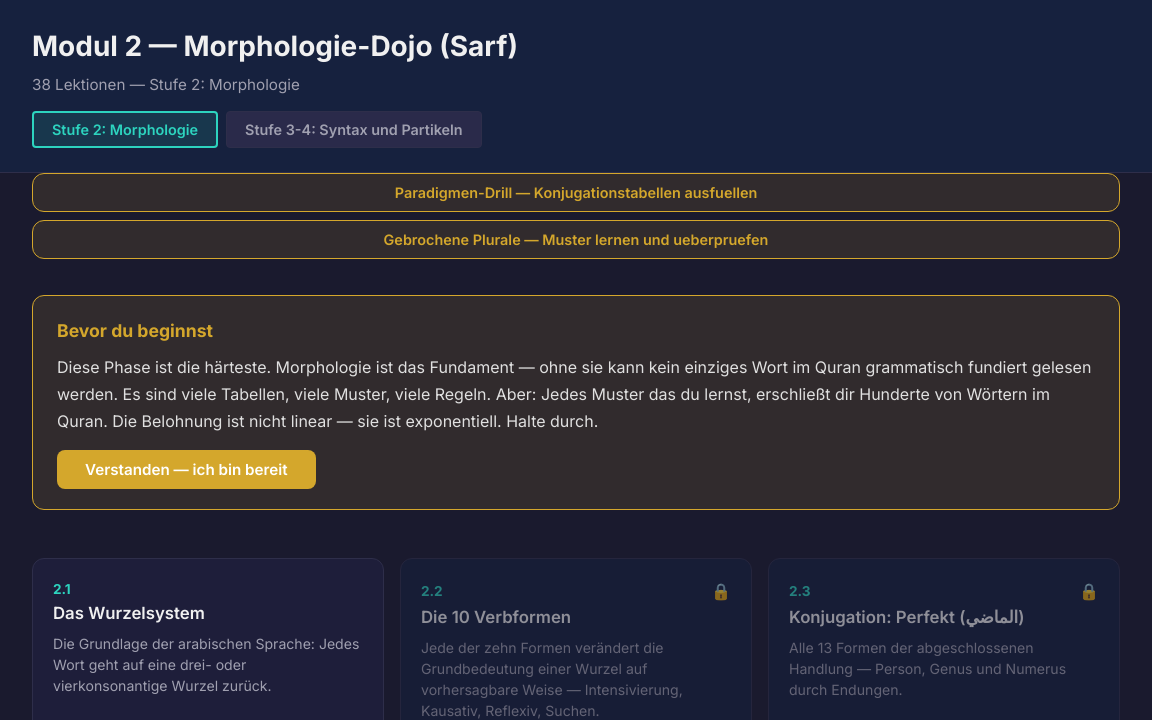
it: Module2 — Morphologie-Dojo interactions › opens ParadigmDrill view when the drill button is clicked
Click the button "Paradigmen-Drill — Konjugationstabellen ausfuellen" at (576, 193), box [32,173,1120,212]
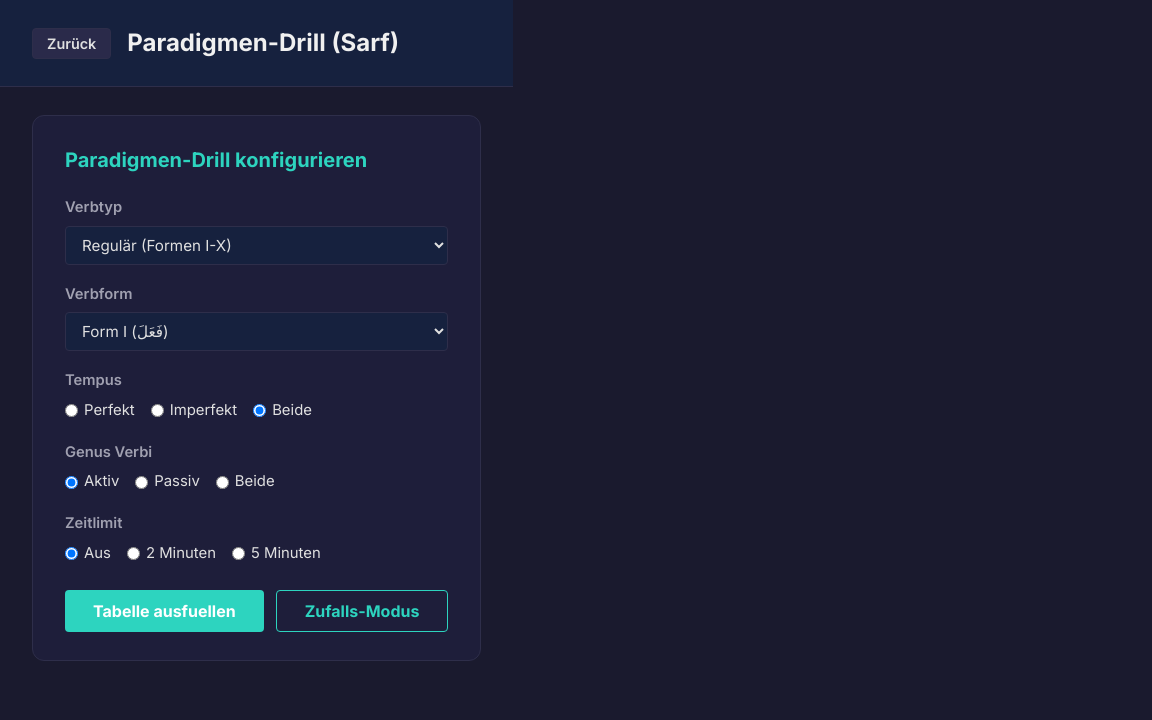
Expected: the text "Das Wurzelsystem" is gone
